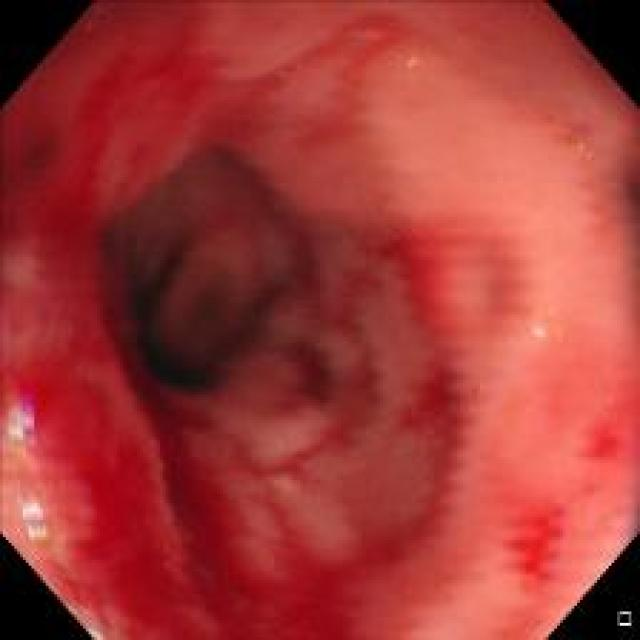blood: (45, 389, 401, 626), (340, 205, 482, 492), (500, 505, 564, 610), (580, 386, 638, 466)
blur: (225, 100, 506, 516), (9, 36, 178, 268), (389, 482, 628, 628), (24, 409, 161, 631)
color misalignment: (4, 385, 45, 458), (16, 490, 55, 548)
contrast: (119, 254, 225, 399)
specularity: (529, 305, 546, 346)
